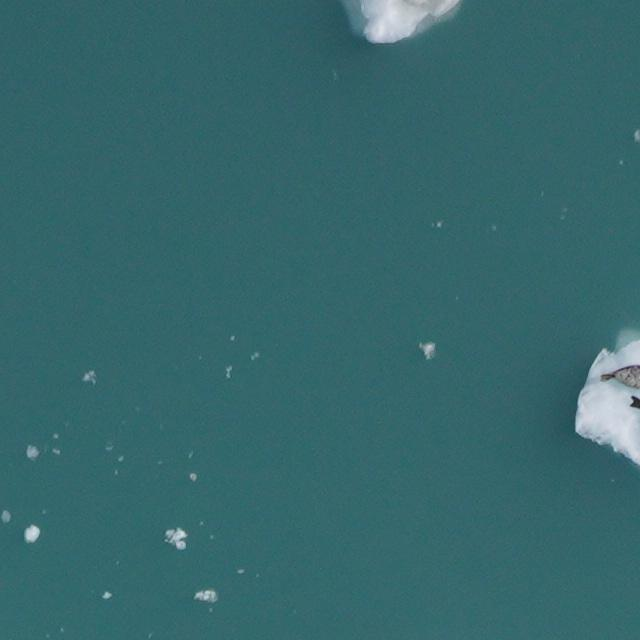seal: (600, 364, 639, 387), (630, 395, 639, 408)
